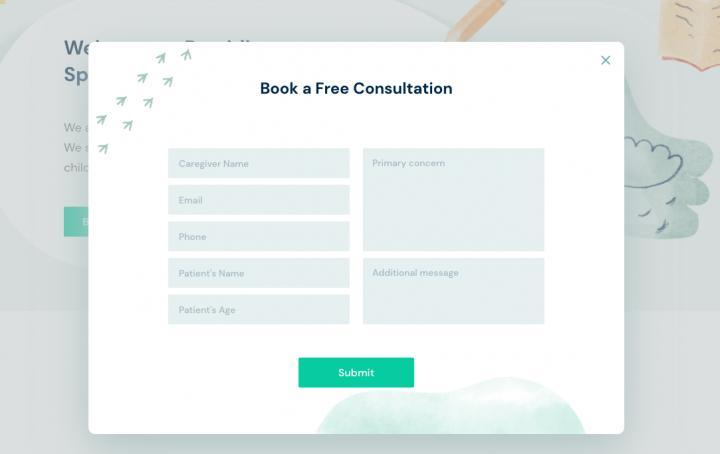button: (298, 358, 417, 391)
icon: (584, 51, 620, 74)
input: (168, 183, 352, 216), (168, 148, 352, 180), (168, 221, 352, 253), (168, 292, 352, 323), (168, 259, 351, 289)
label: (246, 76, 459, 98)
